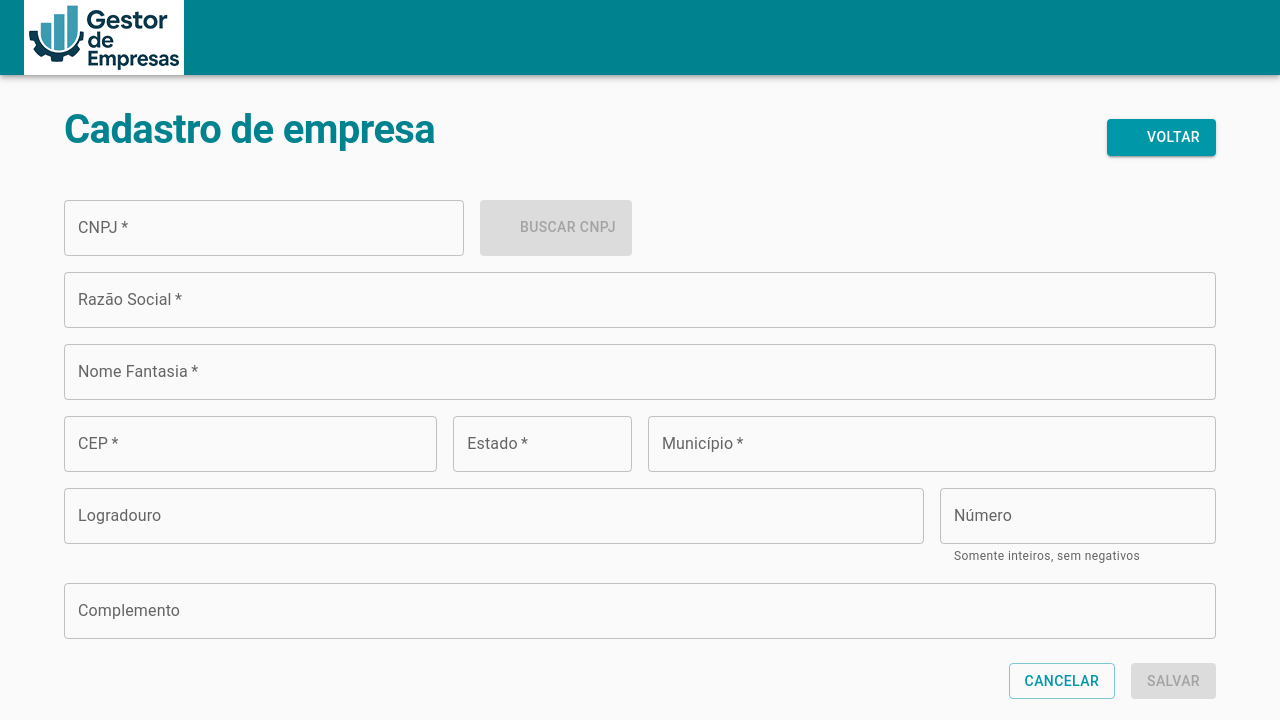
Test: Cadastro de Empresa com Busca de CNPJ › deve formatar o CNPJ automaticamente durante a digitação
Type "34028316000103" into the field labelled "CNPJ *" at (264, 228), box [64,200,464,256]
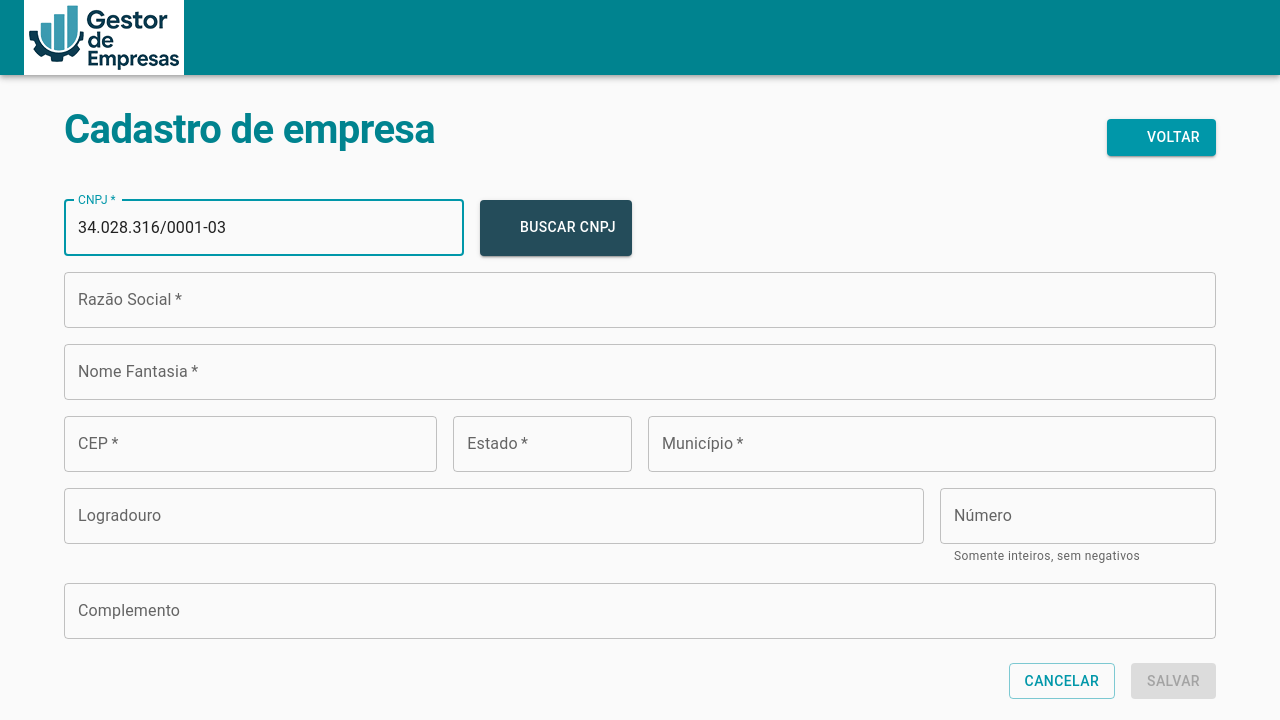
Now the field labelled "CNPJ *" holds "34.028.316/0001-03", box [64,200,464,256]
